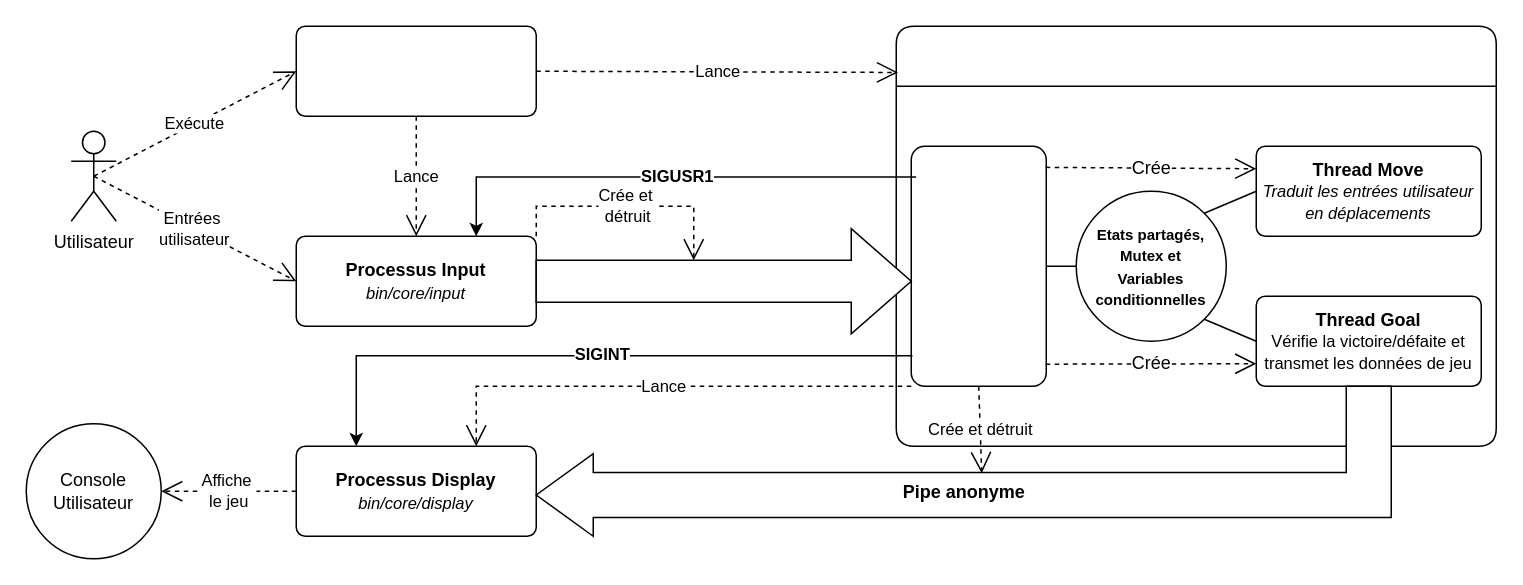
This 1523x585 diagram has some shape labels left out. Each missing label, with the box of its shape:
Pipe nommé /tmp/fifo_2048_input: (535, 227, 911, 334)
Processus 2048 bin/core/game_2048: (895, 25, 1496, 446)
Processus Launcher bin/launcher: (295, 25, 536, 116)
Thread Main Logique du jeu et Orchestration: (910, 145, 1046, 386)
